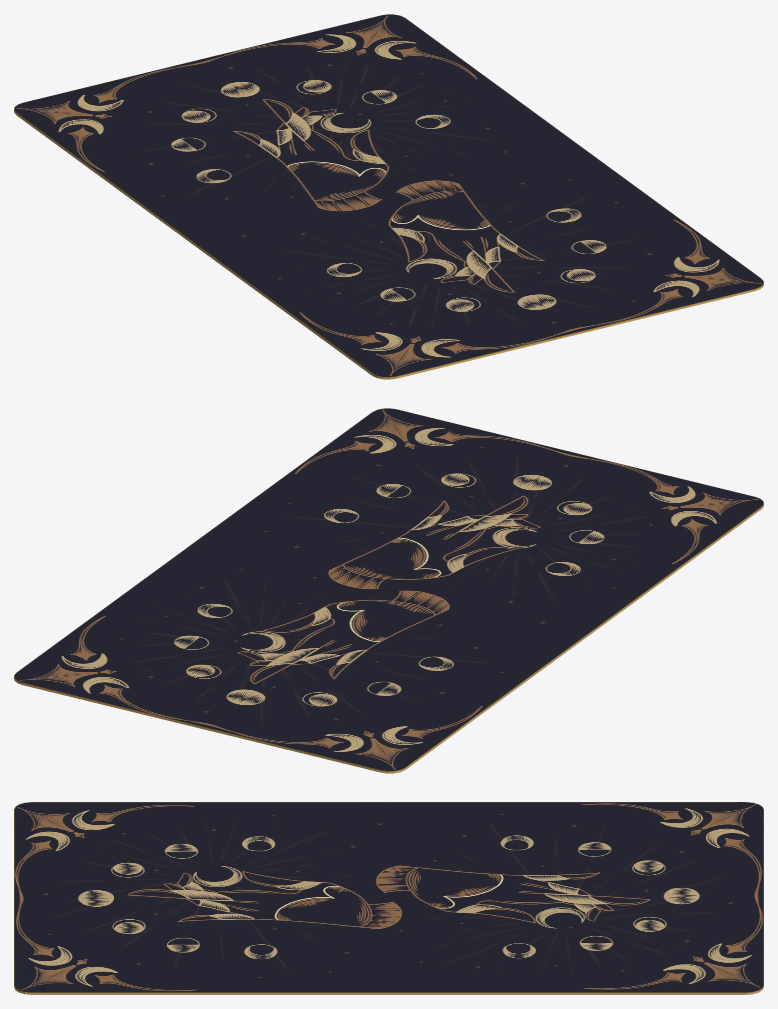
File: tarrot_deck_2.glb
3 views of the same model, one above another, from view 1: azimuth 30°, elevation 25°; view 2: azimuth 150°, elevation 25°; view 3: azimuth 270°, elevation 25° (orthographic).
Visible parts, largest first — view 1: card; view 2: card; view 3: card.
Part boxes in pixels (x1,y1,x2,y2): card: [14, 14, 763, 379]; card: [14, 408, 763, 773]; card: [14, 802, 763, 994].
Size of the model in its own units: 1.2 by 0.0066 by 2.
Materials: 2 (1 with a texture image).
